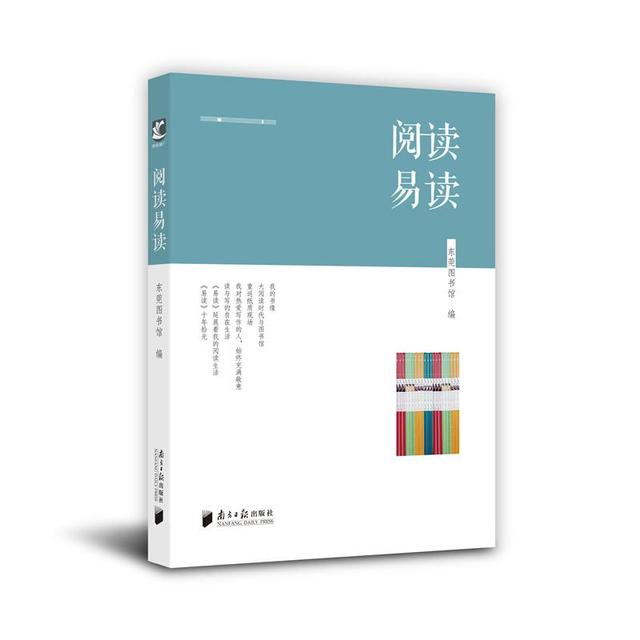book: (140, 66, 498, 567)
